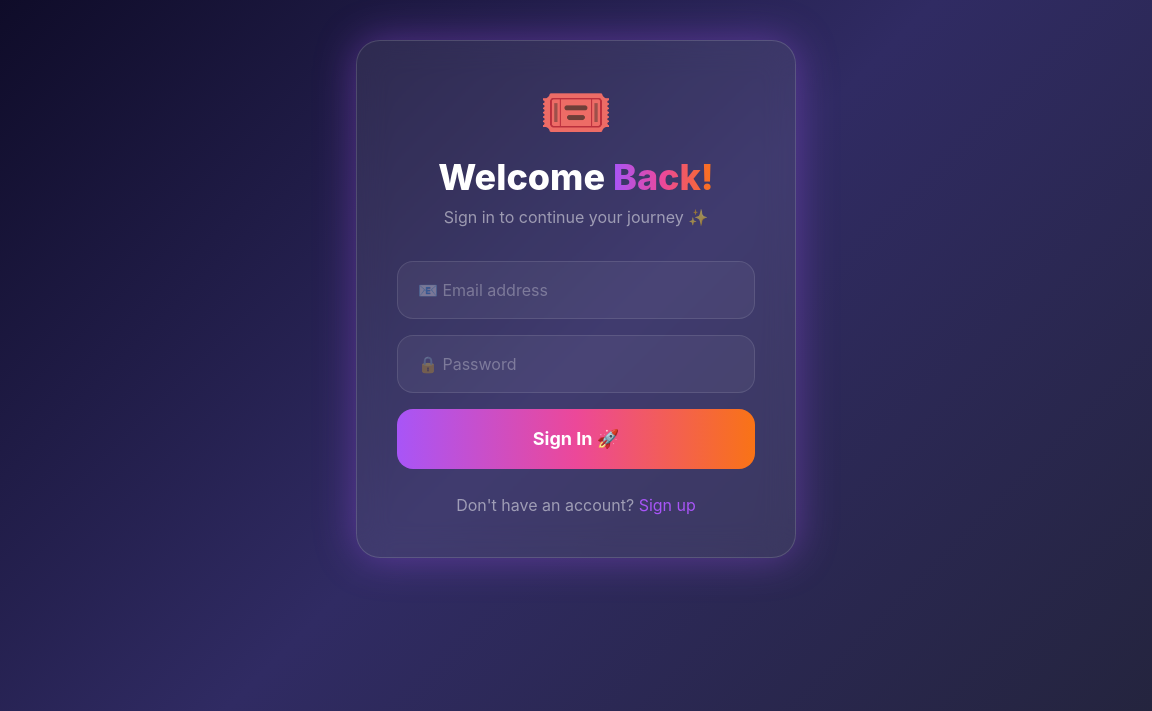
Test: retains the registration password limit when switching from login
The width and height of the screenshot is (1152, 711).
Click the button "Sign up".
click(667, 505)  # box top-left (639, 493), bottom-right (696, 517)
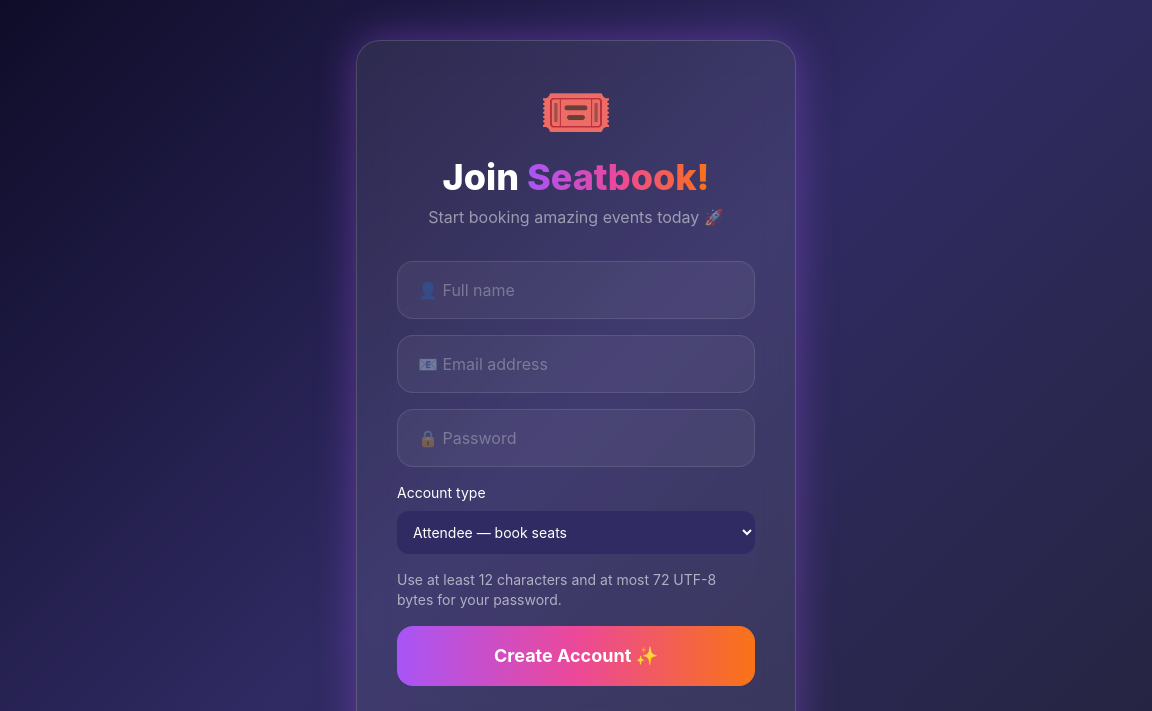
Check: the text "at most 72 UTF-8 bytes" is shown, box top-left (397, 571), bottom-right (716, 608)
